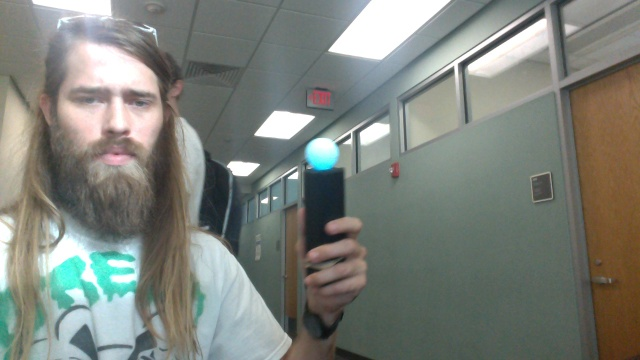wand: (306, 138, 338, 170)
